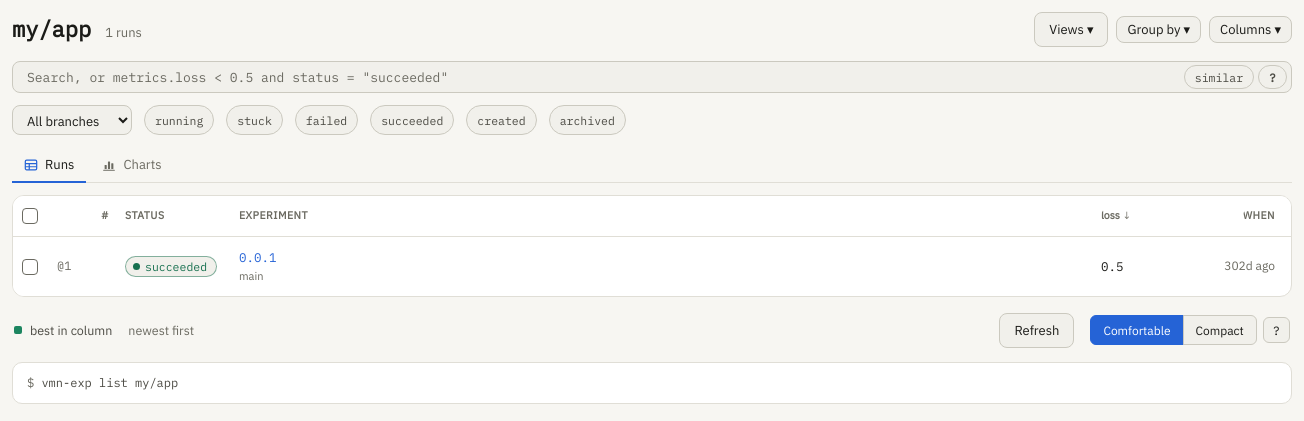
it: Leaderboard similar mode › replaces the table with the runs similar to the typed text
The image size is (1304, 421).
Check: the link "0.0.1" is shown, box x1=239 y1=248 x2=276 y2=267
Click the button "similar". click: (1219, 77)
box: x1=1184 y1=65 x2=1254 y2=89
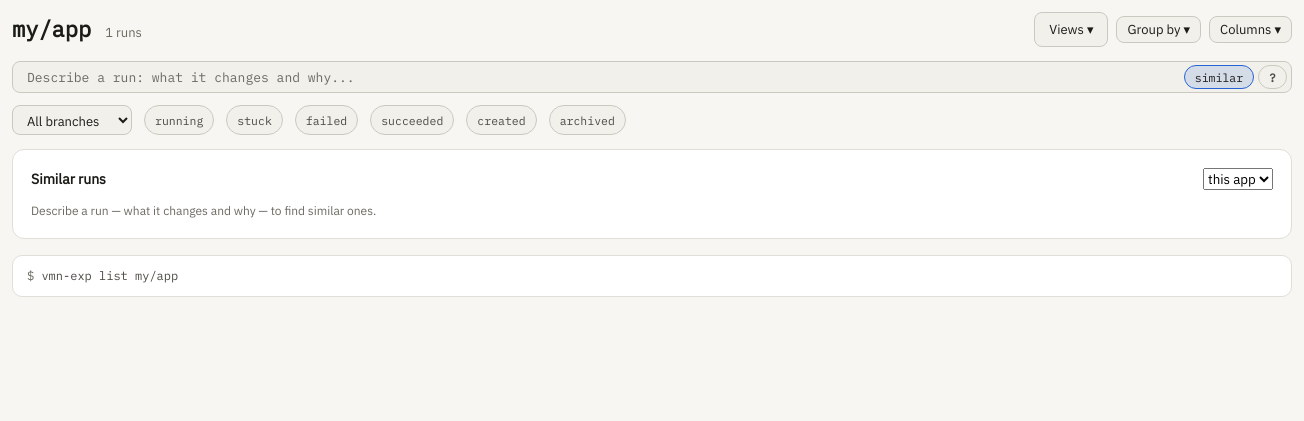
Type "focal loss" into the field named "Filter query". click: (600, 77)
box: x1=21 y1=65 x2=1180 y2=89
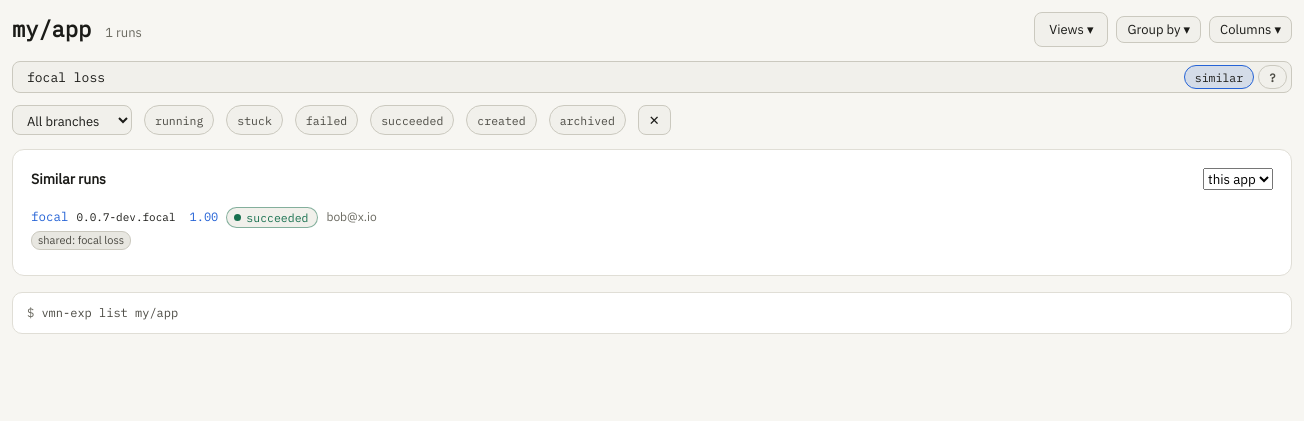
Check: the link "0.0.1" is not shown
Check: the text "shared: focal loss" is shown, box x1=31 y1=231 x2=131 y2=250
